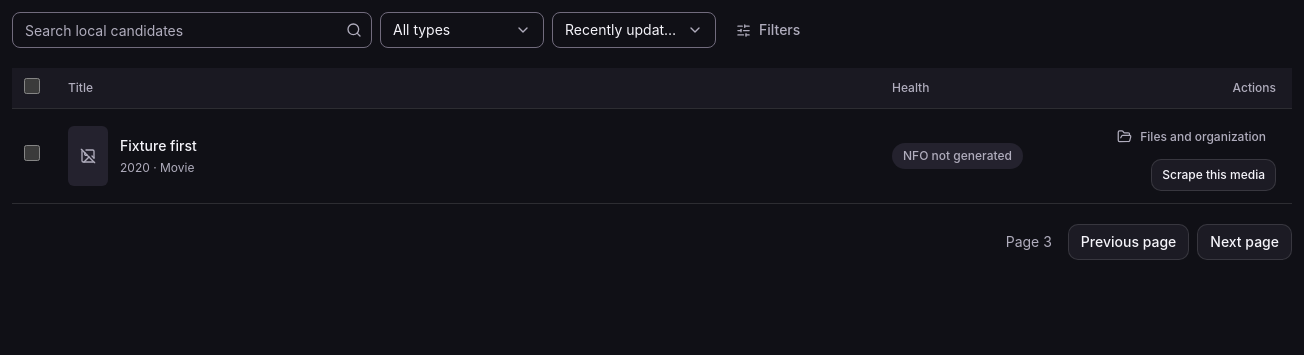
Scenario: clears stale page and batch selection when the Media type filter changes
The width and height of the screenshot is (1304, 355).
Click the checkbox named "Select for scraping: Fixture first" at (32, 153), box x1=24 y1=145 x2=40 y2=161
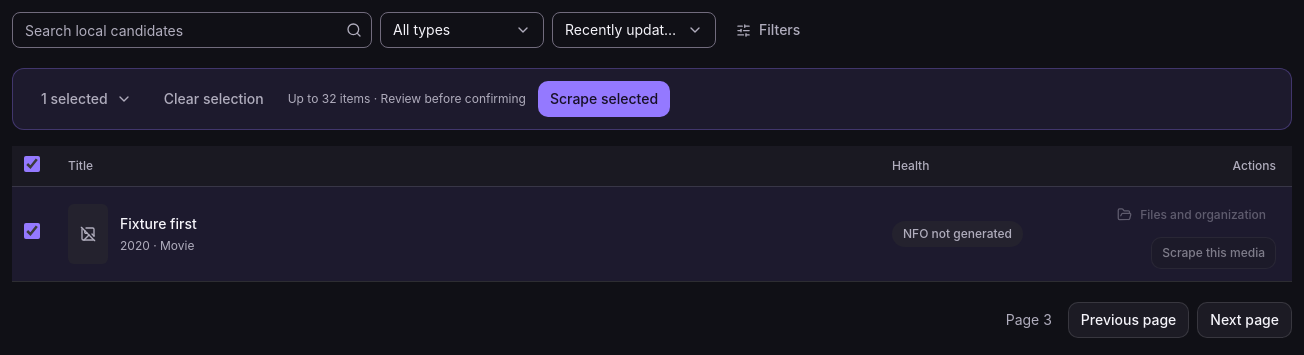
Click the dropdown named "Media type" at (462, 30), box x1=380 y1=12 x2=544 y2=48
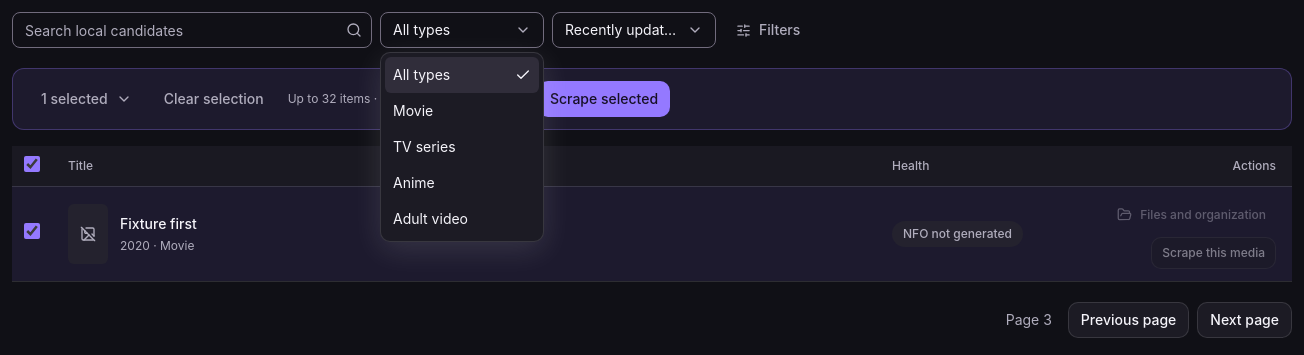
Click the option "Anime" at (462, 183), box x1=385 y1=165 x2=539 y2=201
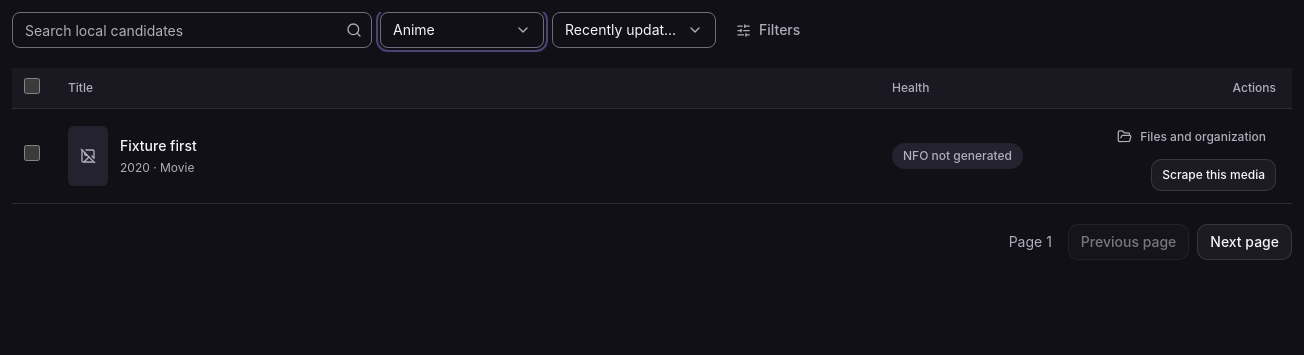
Result: the text "Page 1" is shown at x1=1009 y1=232 x2=1052 y2=252
Result: the button "Scrape selected" is gone
